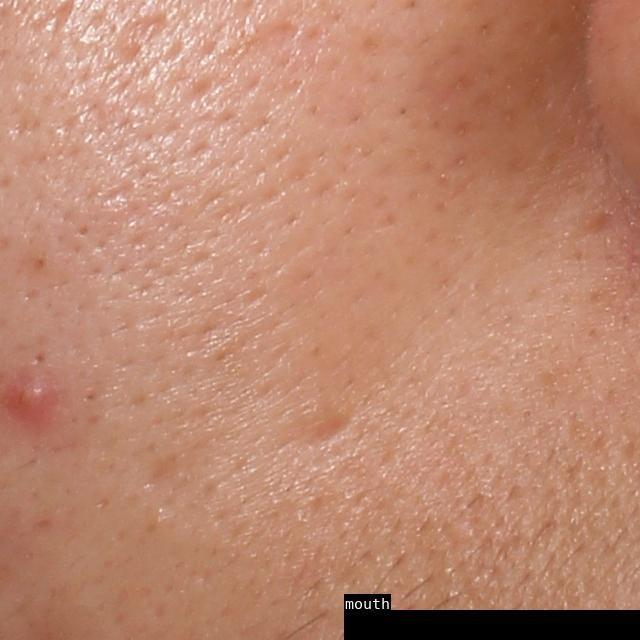atrophic_scar: (112, 11, 167, 67), (243, 21, 301, 57), (306, 411, 366, 445)
papule: (7, 374, 58, 416)
